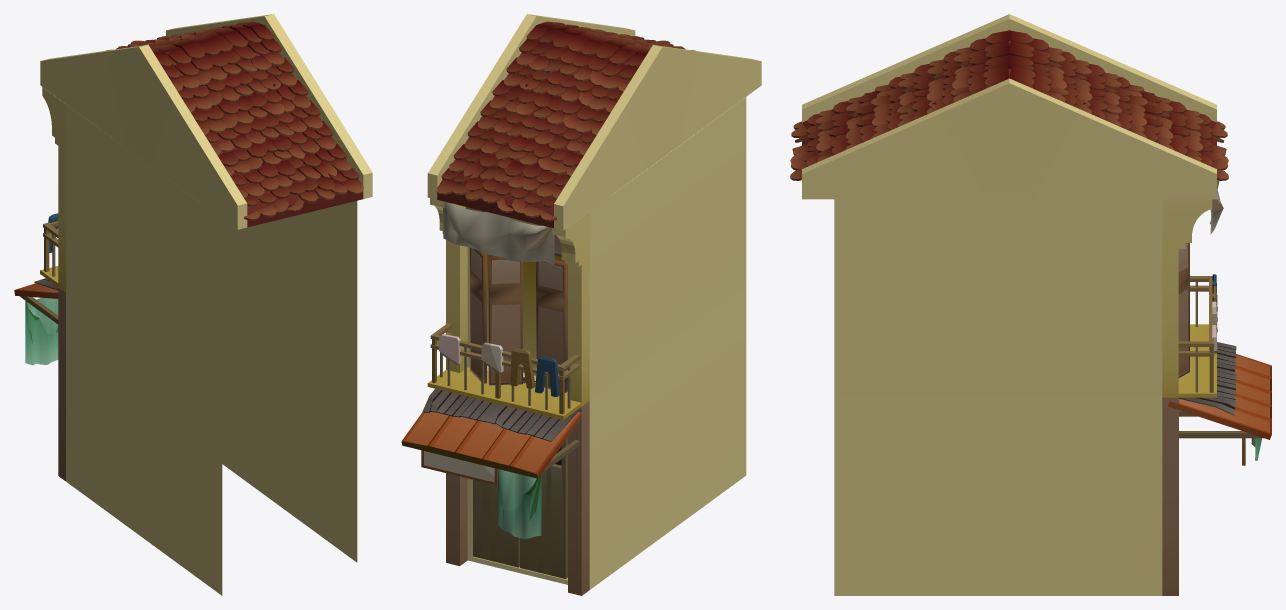
The model's file is SM_FacadeOldQuarter_Simple_02.fbx.
The picture shows the model from 3 angles, left to right: view 1: azimuth 30°, elevation 25°; view 2: azimuth 150°, elevation 25°; view 3: azimuth 270°, elevation 25°; orthographic projection. The views are drawn at different scales.
Visible parts, largest first — view 1: SM_FacadeOldQuarter_Simple_02.001; view 2: SM_FacadeOldQuarter_Simple_02.001; view 3: SM_FacadeOldQuarter_Simple_02.001.
Part boxes in pixels (x1,y1,x2,y2): SM_FacadeOldQuarter_Simple_02.001: [14, 14, 372, 595]; SM_FacadeOldQuarter_Simple_02.001: [401, 14, 761, 595]; SM_FacadeOldQuarter_Simple_02.001: [790, 14, 1271, 595].
Bounding box in the file's own units: 300 × 1035 × 881.
